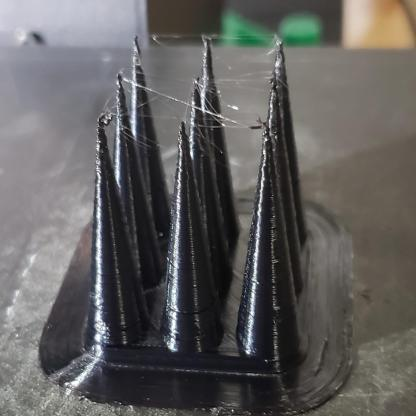fail: (122, 31, 205, 136), (217, 38, 278, 141)
